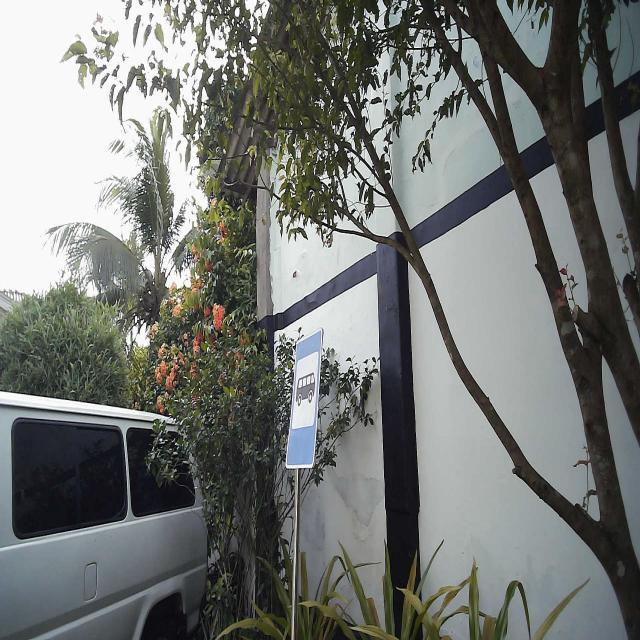bus_stop: (284, 327, 324, 472)
